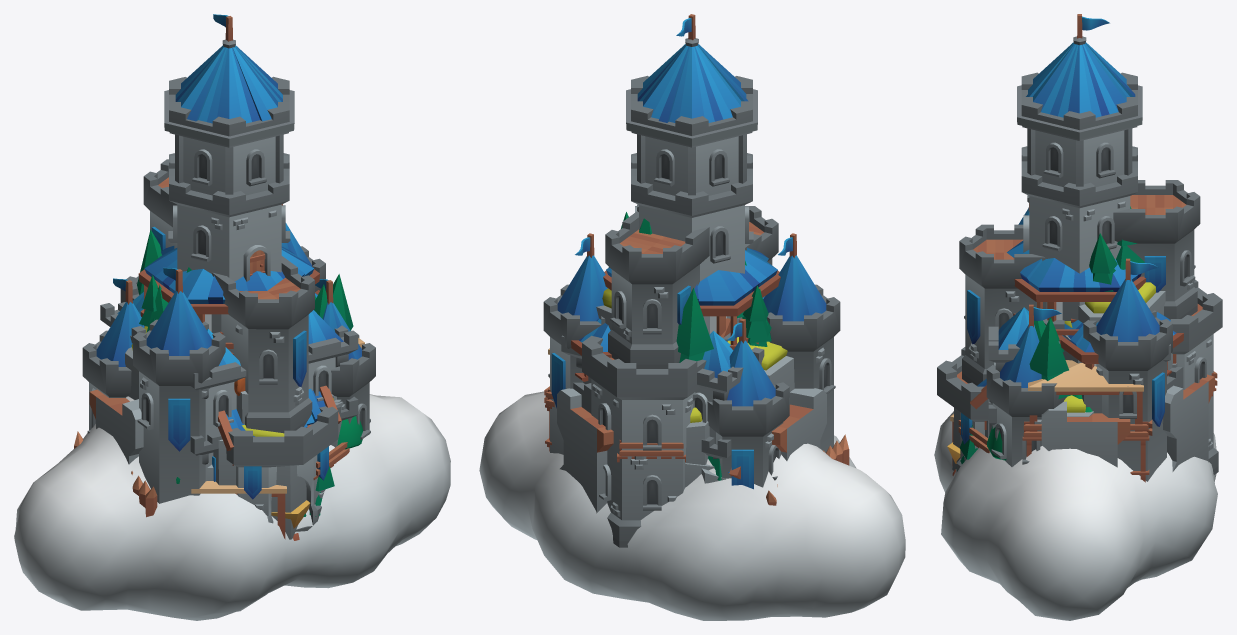
Rendered from village.glb.
3 renders of one model, left to right at view 1: azimuth 30°, elevation 25°; view 2: azimuth 150°, elevation 25°; view 3: azimuth 270°, elevation 25°, orthographic. The views are drawn at different scales.
Parts seen in each view (by area): view 1: building_castle_blue, cloud_big, building_barracks_blue, building_tower_B_top_blue, mountain_C_grass_trees, wall_corner_A_outside, mountain_A_grass_trees, building_scaffolding, building_watermill_blue, wall_straight, fence_wood_straight, trees_B_large; view 2: building_castle_blue, cloud_big, wall_corner_A_outside, building_tower_B_top_blue, building_barracks_blue, mountain_C_grass_trees, mountain_A_grass_trees, building_scaffolding, building_archeryrange_blue, mountain_B_grass_trees; view 3: building_castle_blue, cloud_big, building_tower_B_top_blue, building_scaffolding, wall_corner_A_outside, wall_straight, mountain_B_grass_trees, building_archeryrange_blue, building_barracks_blue, mountain_A_grass_trees, mountain_C_grass_trees.
Part boxes in pixels (x1,y1,x2,y2): building_castle_blue: (82,14,375,531); cloud_big: (14,394,450,620); building_barracks_blue: (100,292,358,481); building_tower_B_top_blue: (138,245,319,354); mountain_C_grass_trees: (125,267,315,539); wall_corner_A_outside: (89,389,139,464); mountain_A_grass_trees: (137,229,353,447); building_scaffolding: (191,338,364,539); building_watermill_blue: (218,385,341,465); wall_straight: (90,390,143,464); fence_wood_straight: (74,431,157,517); trees_B_large: (176,416,362,483); building_castle_blue: (543,14,840,547); cloud_big: (479,391,905,620); wall_corner_A_outside: (557,388,826,513); building_tower_B_top_blue: (603,247,780,350); building_barracks_blue: (561,296,764,459); mountain_C_grass_trees: (686,261,794,465); mountain_A_grass_trees: (608,267,771,362); building_scaffolding: (544,348,685,462); building_archeryrange_blue: (571,318,740,479); mountain_B_grass_trees: (589,212,742,487); building_castle_blue: (937,14,1222,481); cloud_big: (934,411,1217,620); building_tower_B_top_blue: (1007,240,1146,349); building_scaffolding: (950,360,1217,482); wall_corner_A_outside: (1163,374,1214,471); wall_straight: (1041,401,1130,467); mountain_B_grass_trees: (1034,206,1172,416); building_archeryrange_blue: (1058,312,1183,413); building_barracks_blue: (988,307,1170,424); mountain_A_grass_trees: (989,318,1071,434); mountain_C_grass_trees: (952,317,1063,470).
Bounding box in the file's own units: 3.61 × 4.89 × 2.28.
Materials: 1 (1 with a texture image).
